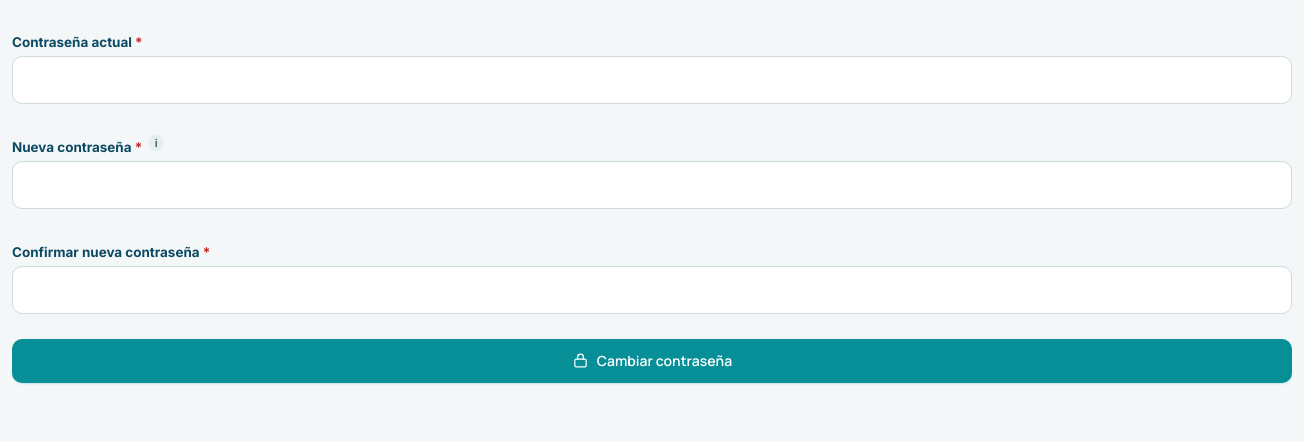
Scenario: autenticación avanzada › cambia la contraseña autenticada con los campos del formulario
The image size is (1304, 442).
Type "OldPassword123" into the password field labelled "Contraseña actual *" at (652, 80), box [12, 56, 1292, 104]
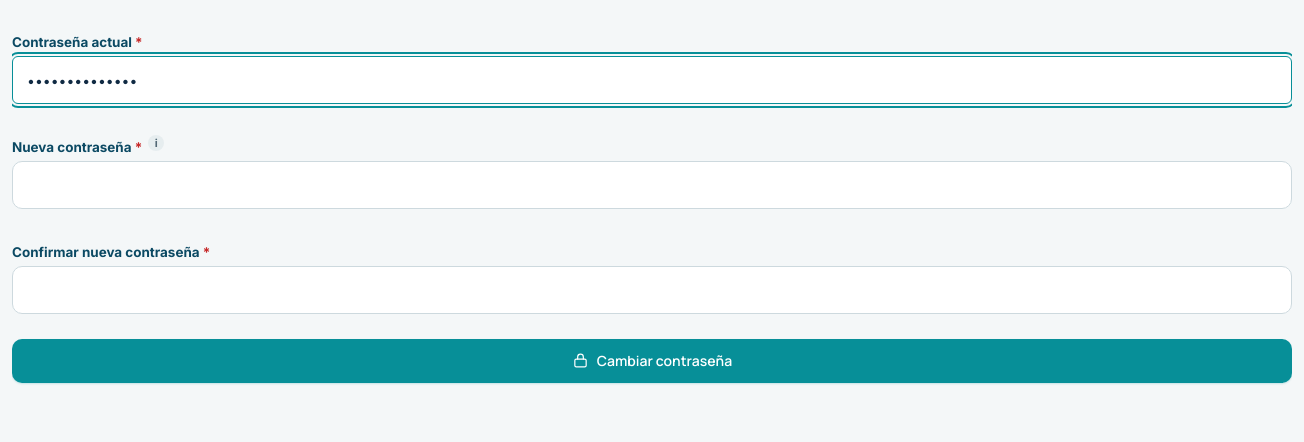
Type "NewPassword123" into the password field labelled "Nueva contraseña *" at (652, 185), box [12, 161, 1292, 209]
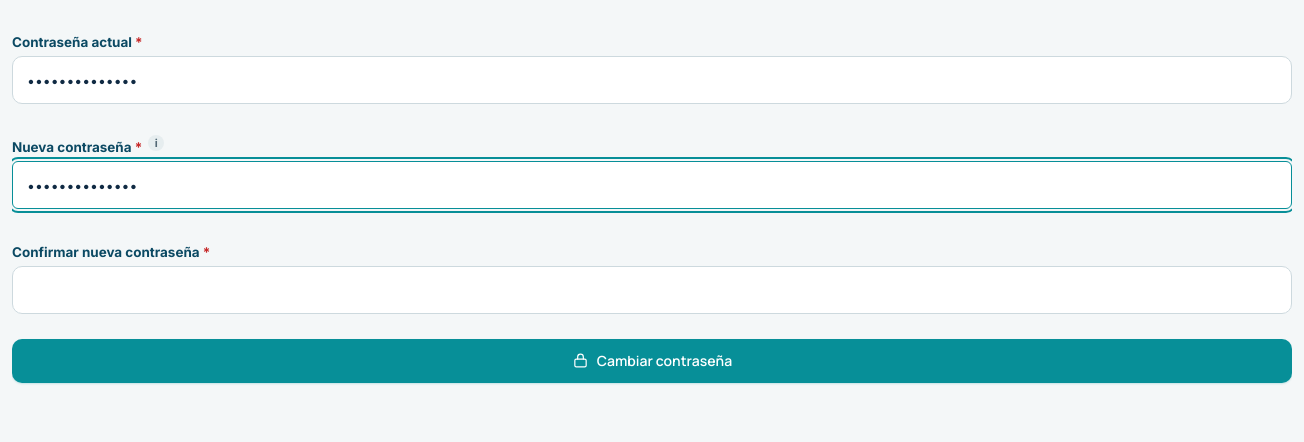
Type "NewPassword123" into the password field labelled "Confirmar nueva contraseña *" at (652, 290), box [12, 266, 1292, 314]
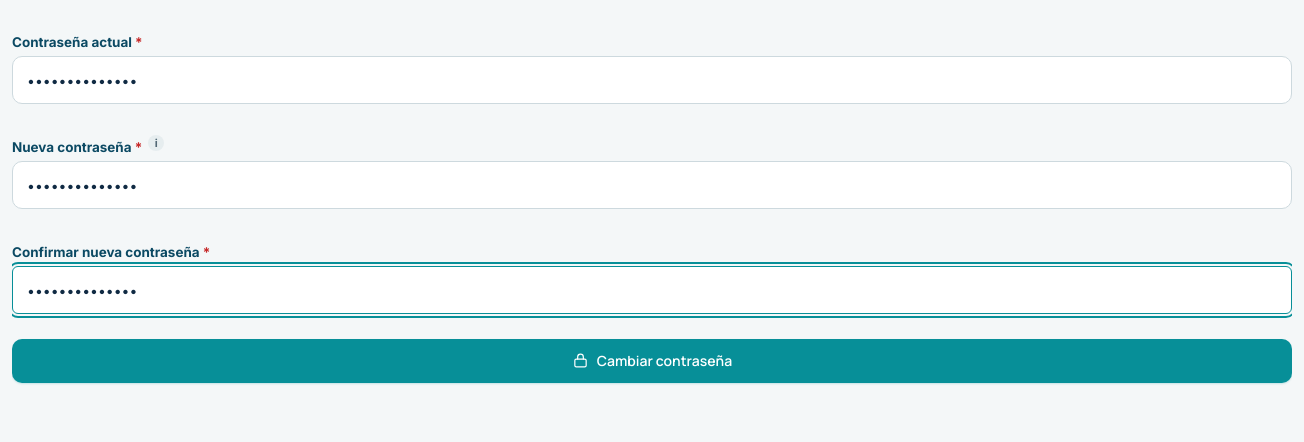
Click the button "Cambiar contraseña" at (652, 361), box [12, 339, 1292, 383]
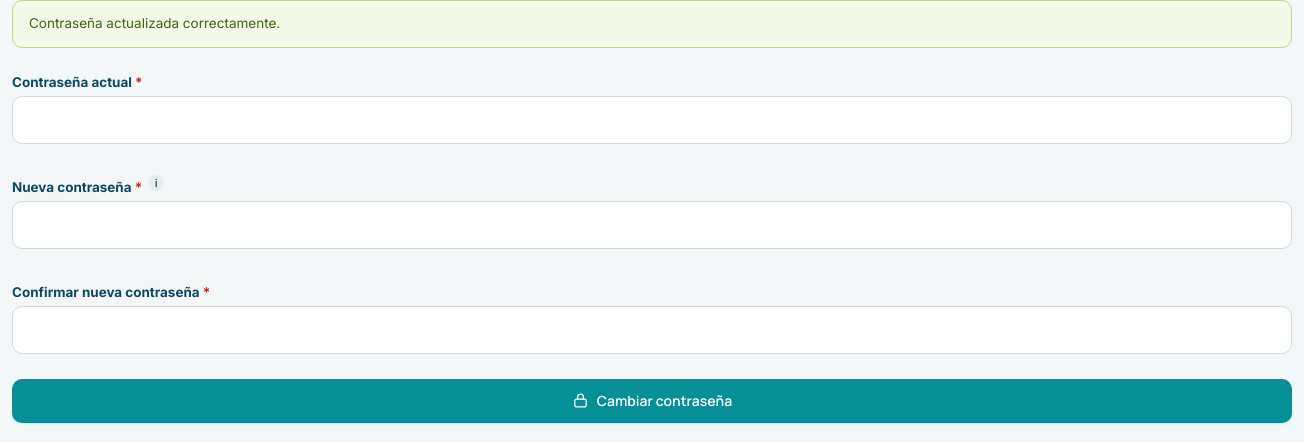
Now the message shows "Contraseña actualizada", box [29, 15, 280, 31]
